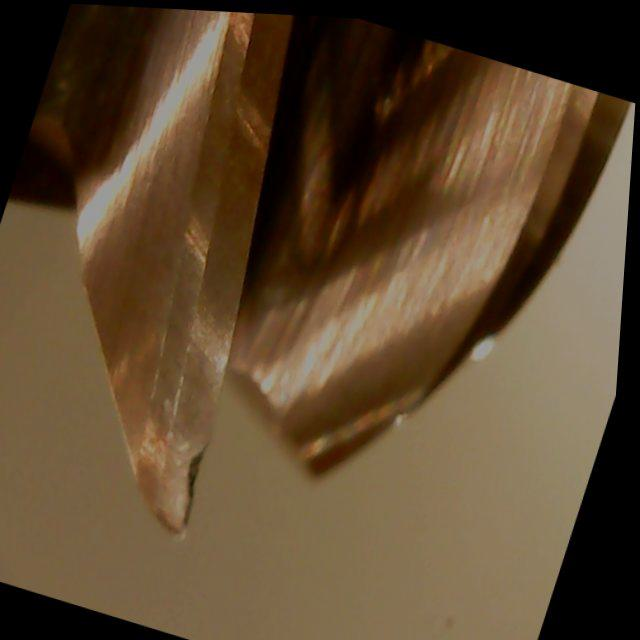Tool-wear-class-1: (97, 311, 264, 548)
